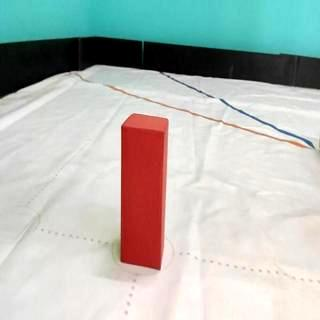redbox: (122, 112, 166, 270)
